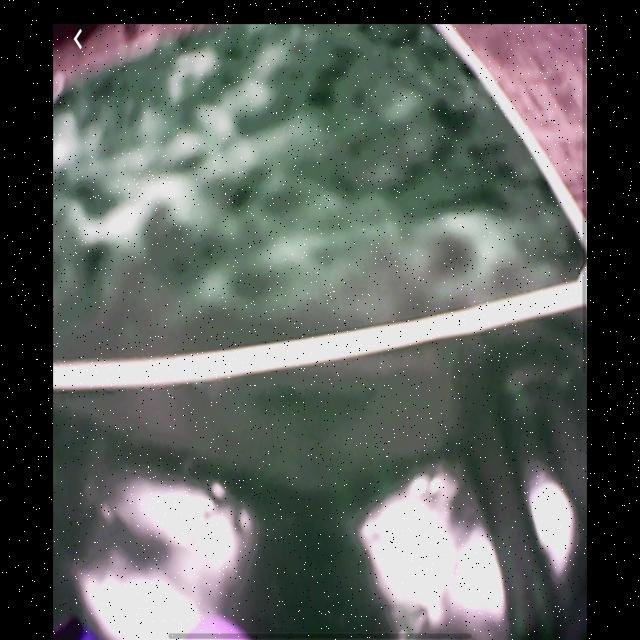ball: (182, 615, 257, 640)
